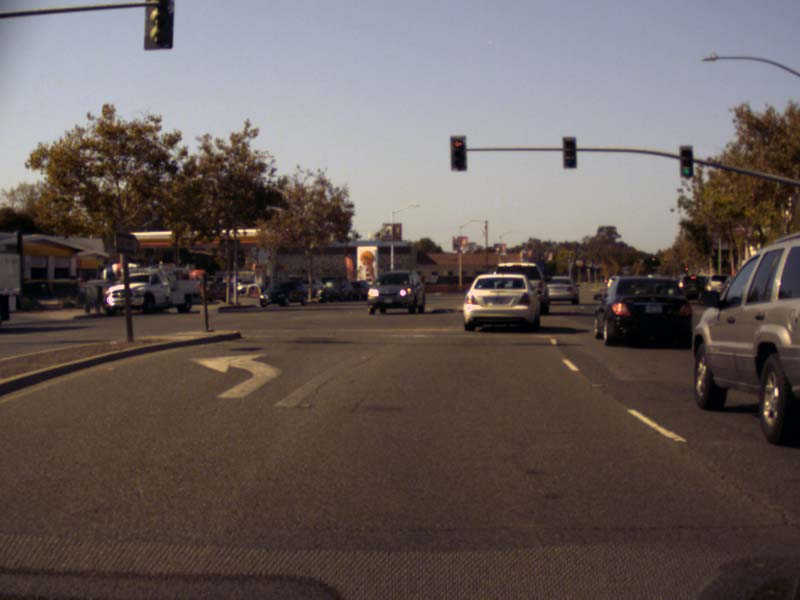Green: (681, 147, 692, 176)
Red: (451, 137, 464, 168)
